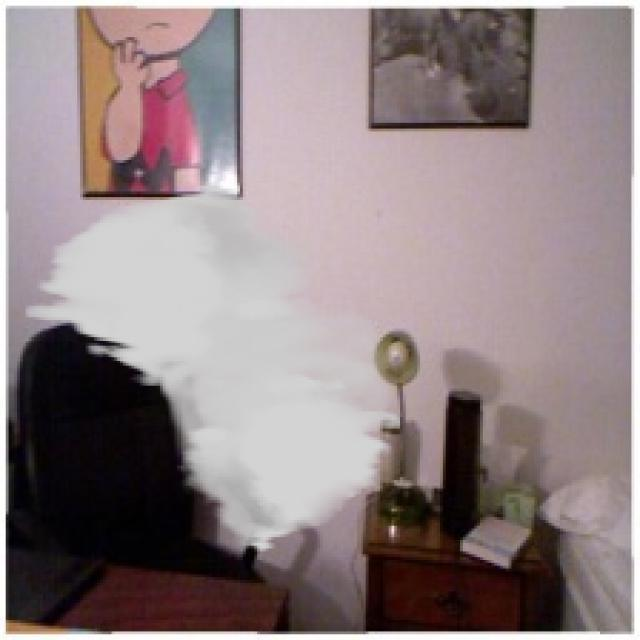Smoke: (26, 182, 403, 554)
